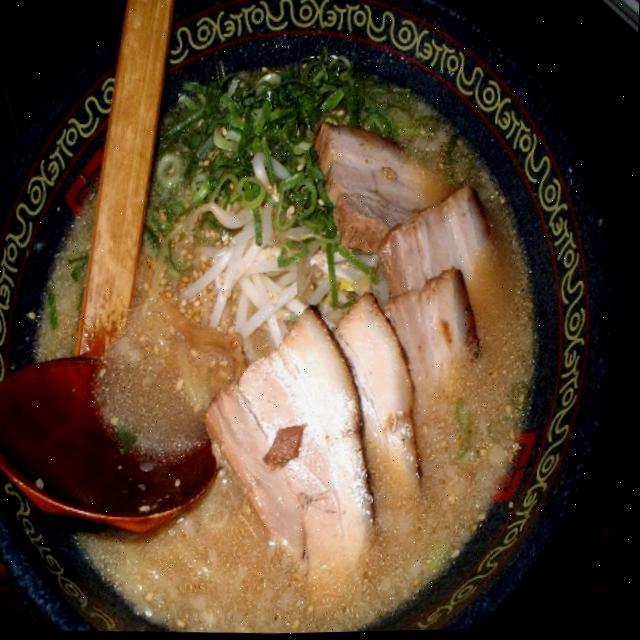面条主食: (2, 65, 566, 640)
